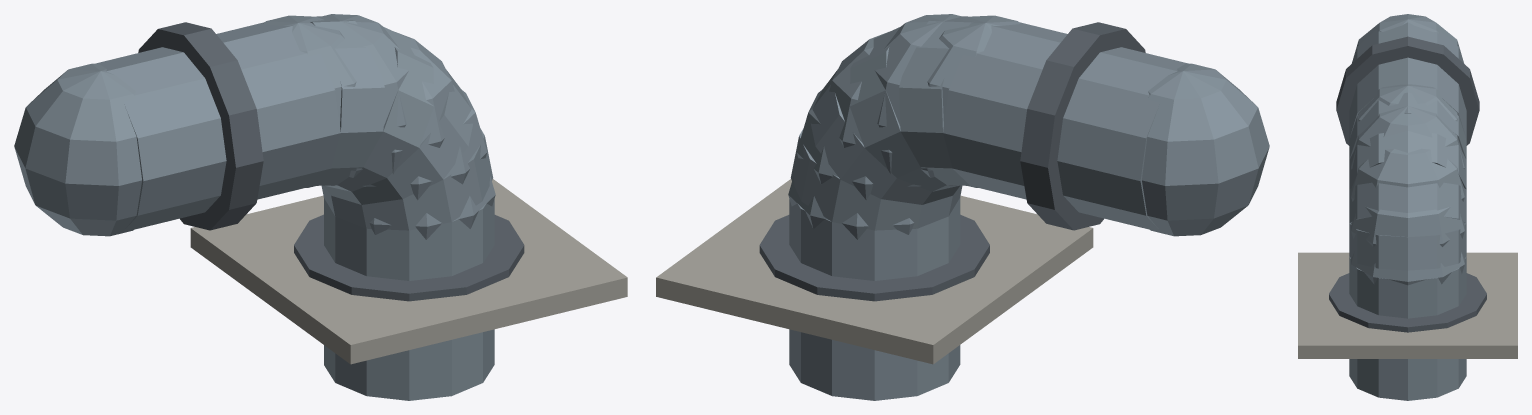
The model's file is potrubi_do_zeme.glb.
The picture shows the model from 3 angles, left to right: view 1: azimuth 30°, elevation 25°; view 2: azimuth 150°, elevation 25°; view 3: azimuth 270°, elevation 25°; orthographic projection. The views are drawn at different scales.
Visible parts, largest first — view 1: potrubi_do_zeme; view 2: potrubi_do_zeme; view 3: potrubi_do_zeme.
Part boxes in pixels (x1,y1,x2,y2): potrubi_do_zeme: [14, 14, 627, 400]; potrubi_do_zeme: [656, 14, 1269, 400]; potrubi_do_zeme: [1298, 14, 1517, 400].
Size of the model in its own units: 2.83 by 1.99 by 1.5.
1 material, 1 textured.
